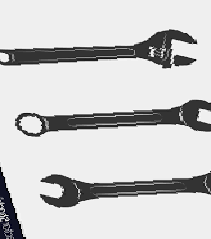Wrench: (1, 23, 206, 78), (8, 94, 211, 140), (30, 158, 211, 209)
